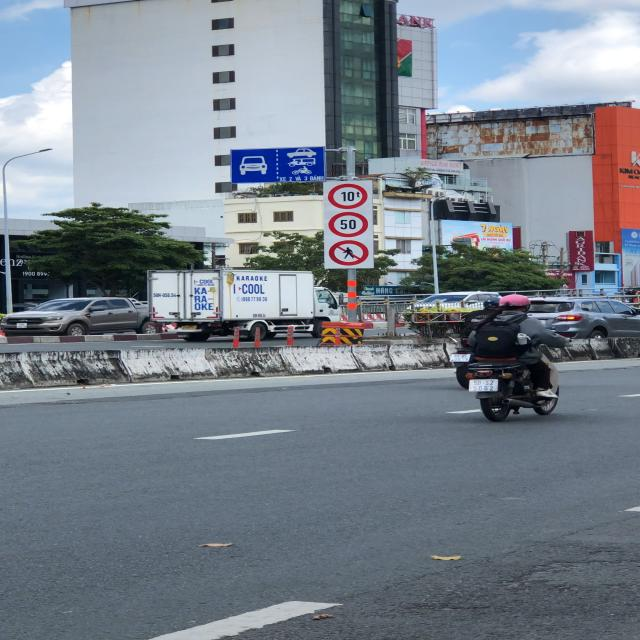Bien bao cam nguoi di bo: (324, 239, 372, 267)
Bien bao toc do toi da cho phep: (322, 211, 371, 240)
